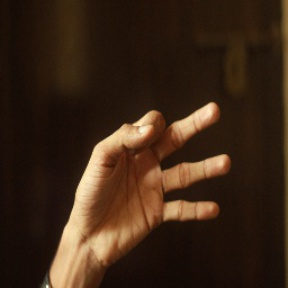K: (63, 97, 235, 259)
